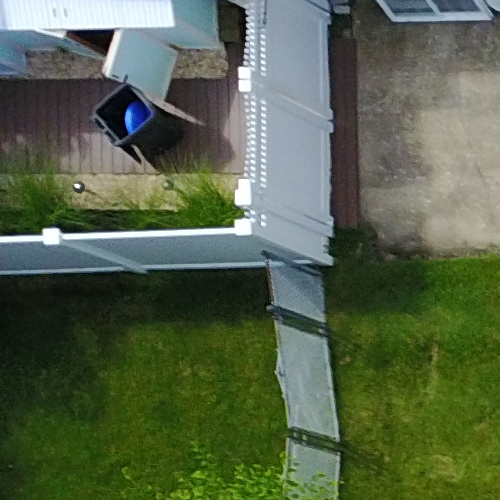trash bin: (75, 89, 185, 163)
